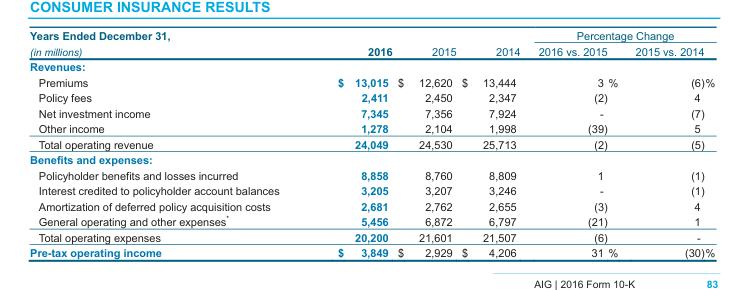table: (29, 28, 714, 258)
table column: (29, 28, 307, 258), (528, 28, 625, 258), (625, 28, 714, 258), (307, 28, 394, 258), (458, 28, 528, 258), (394, 28, 458, 258)
table column header: (29, 28, 714, 58)
table projected row header: (29, 58, 714, 74), (29, 151, 714, 167)
table row: (29, 212, 714, 229), (29, 42, 714, 58), (29, 58, 714, 74), (29, 89, 714, 105), (29, 120, 714, 136), (29, 151, 714, 167), (29, 182, 714, 198), (29, 74, 714, 89), (29, 105, 714, 120), (29, 136, 714, 151), (29, 167, 714, 182), (29, 229, 714, 244), (29, 28, 714, 42), (29, 198, 714, 212), (29, 244, 714, 258)
table spanning cell: (29, 28, 307, 58), (307, 28, 394, 58), (528, 28, 714, 42), (458, 28, 528, 58), (394, 28, 458, 58)
